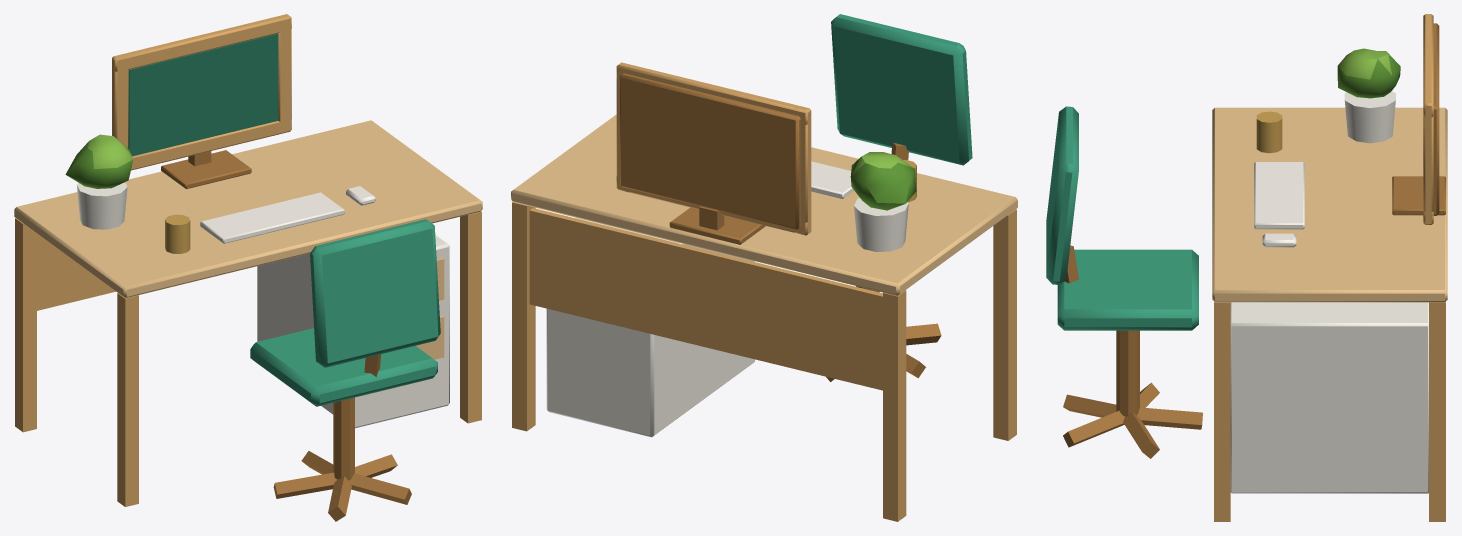
Rendered from workstation.glb.
3 views of the same model, side by side, from view 1: azimuth 30°, elevation 25°; view 2: azimuth 150°, elevation 25°; view 3: azimuth 270°, elevation 25° (orthographic). The views are drawn at different scales.
Visible parts, largest first — view 1: body, screen; view 2: body; view 3: body.
Boxes of the visible parts, x1=… form: body: x1=14, y1=14, x2=482, y2=521; screen: x1=128, y1=33, x2=278, y2=156; body: x1=511, y1=14, x2=1017, y2=521; body: x1=1046, y1=14, x2=1447, y2=521.
Size of the model in its own units: 1.3 by 1.22 by 1.19.
